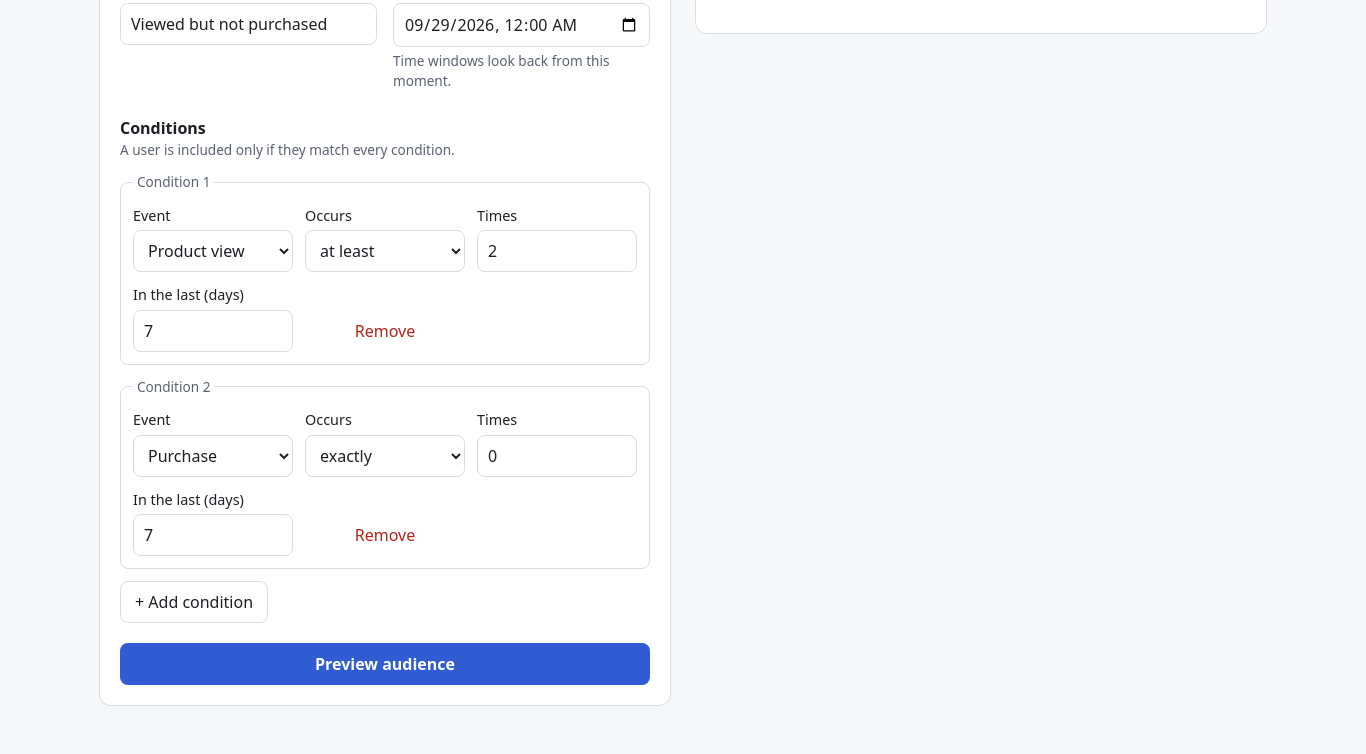
Test: App › sends the rule to the backend and shows members with evidence
(page scrolled)
Click the button "Preview audience". click: (385, 664)
box: left=120, top=643, right=650, bottom=685
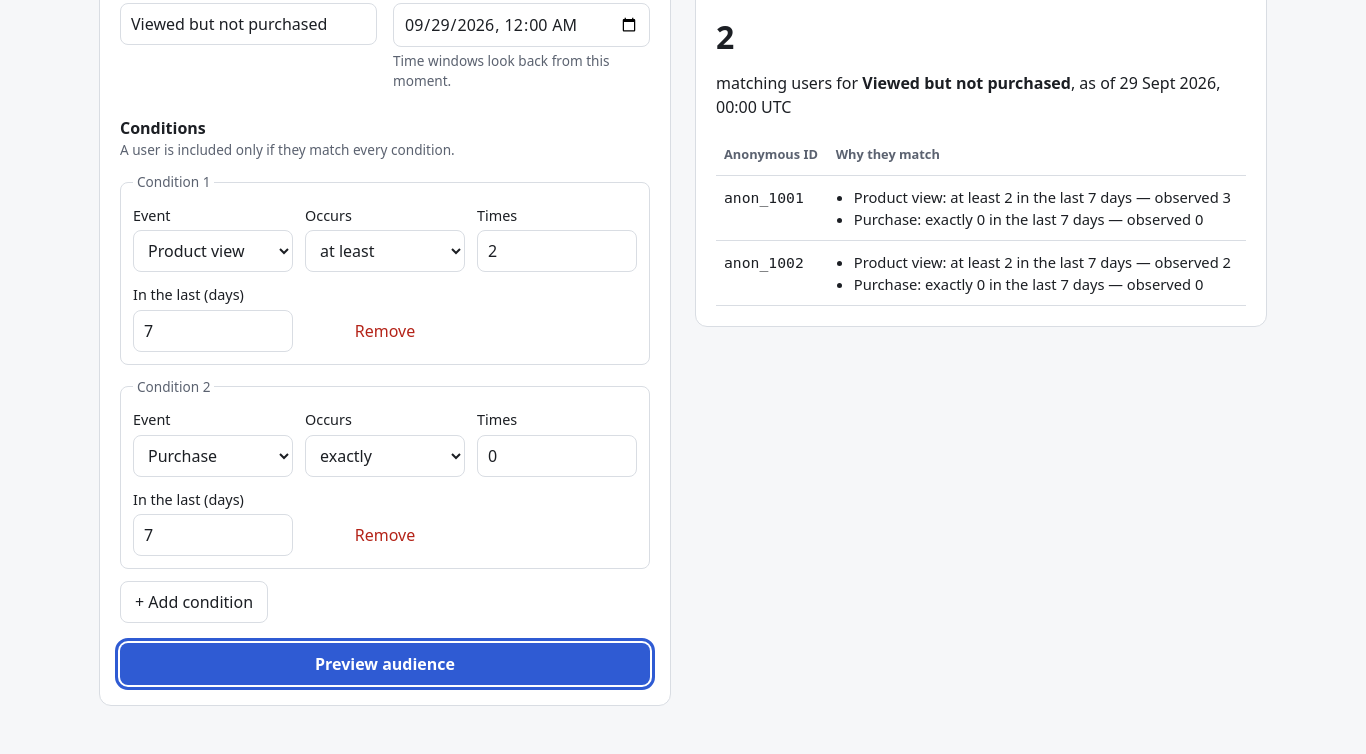
Expected: the text "anon_1001" is shown, left=724, top=189, right=804, bottom=206
Expected: the list item "Product view: at least 2 in the last 7 days — observed 3" is shown, left=854, top=186, right=1238, bottom=208
